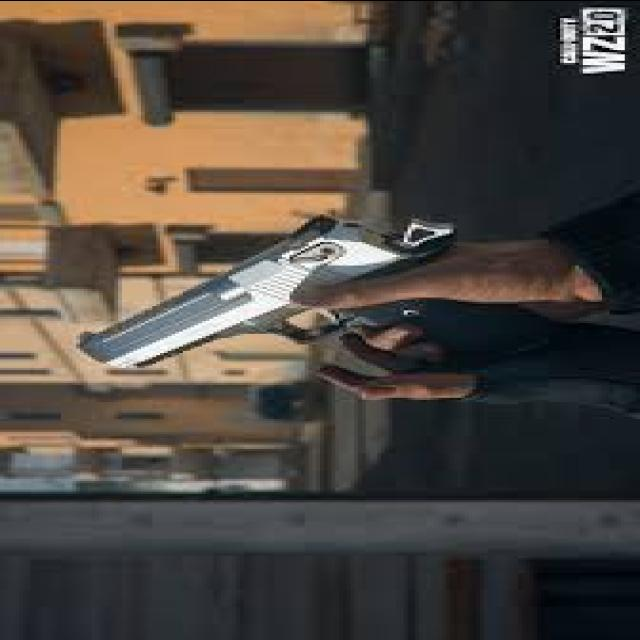weapons: (38, 181, 545, 403)
